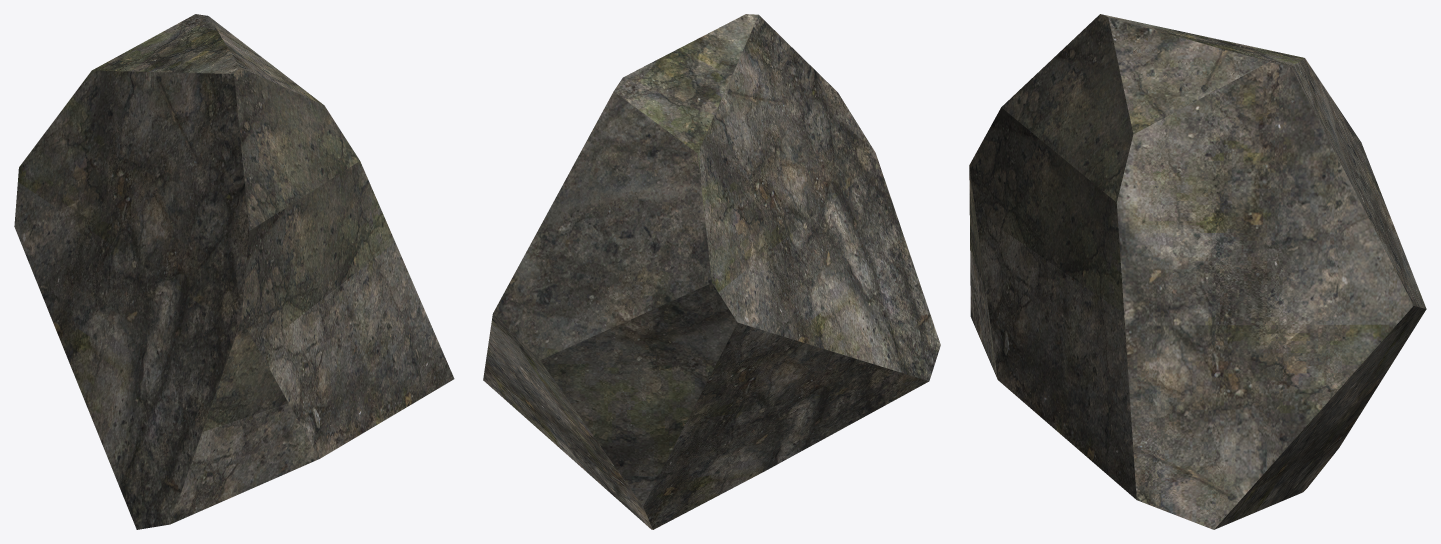
Rendered from ColumnDamage08_18.fbx.
The picture shows the model from 3 angles, left to right: view 1: azimuth 30°, elevation 25°; view 2: azimuth 150°, elevation 25°; view 3: azimuth 270°, elevation 25°; orthographic projection. The views are drawn at different scales.
Visible parts, largest first — view 1: ColumnDamage08_DM.018; view 2: ColumnDamage08_DM.018; view 3: ColumnDamage08_DM.018.
Boxes of the visible parts, x1=… form: ColumnDamage08_DM.018: x1=14, y1=14, x2=454, y2=529; ColumnDamage08_DM.018: x1=483, y1=14, x2=940, y2=529; ColumnDamage08_DM.018: x1=969, y1=14, x2=1426, y2=529.
Size of the model in its own units: 107 by 130 by 113.
1 material, 1 textured.
